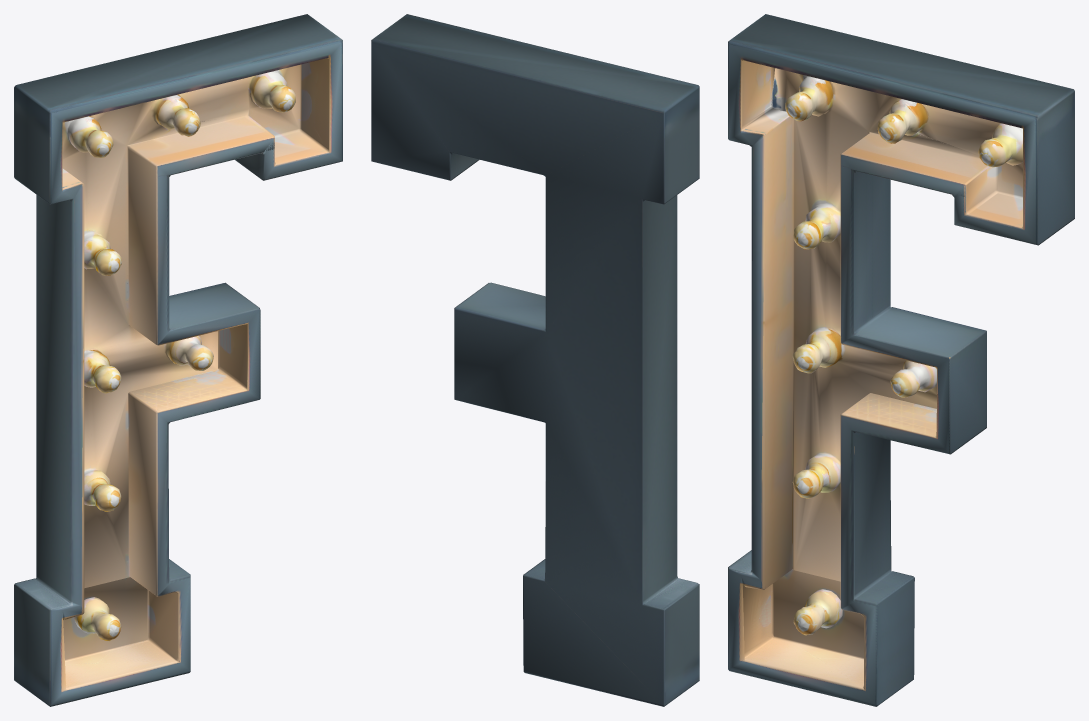
Rendered from Letter_F_0603000732_texture.glb.
3 views of the same model, side by side, from view 1: azimuth 30°, elevation 25°; view 2: azimuth 150°, elevation 25°; view 3: azimuth 330°, elevation 25° (orthographic). The views are drawn at different scales.
Parts seen in each view (by area): view 1: Mesh_0.003; view 2: Mesh_0.003; view 3: Mesh_0.003.
Part boxes in pixels (x1=…): Mesh_0.003: x1=14, y1=14, x2=342, y2=706; Mesh_0.003: x1=371, y1=14, x2=699, y2=706; Mesh_0.003: x1=728, y1=14, x2=1074, y2=706.
Size of the model in its own units: 0.4713 by 0.9144 by 0.0995.
Materials: 1 (1 with a texture image).
